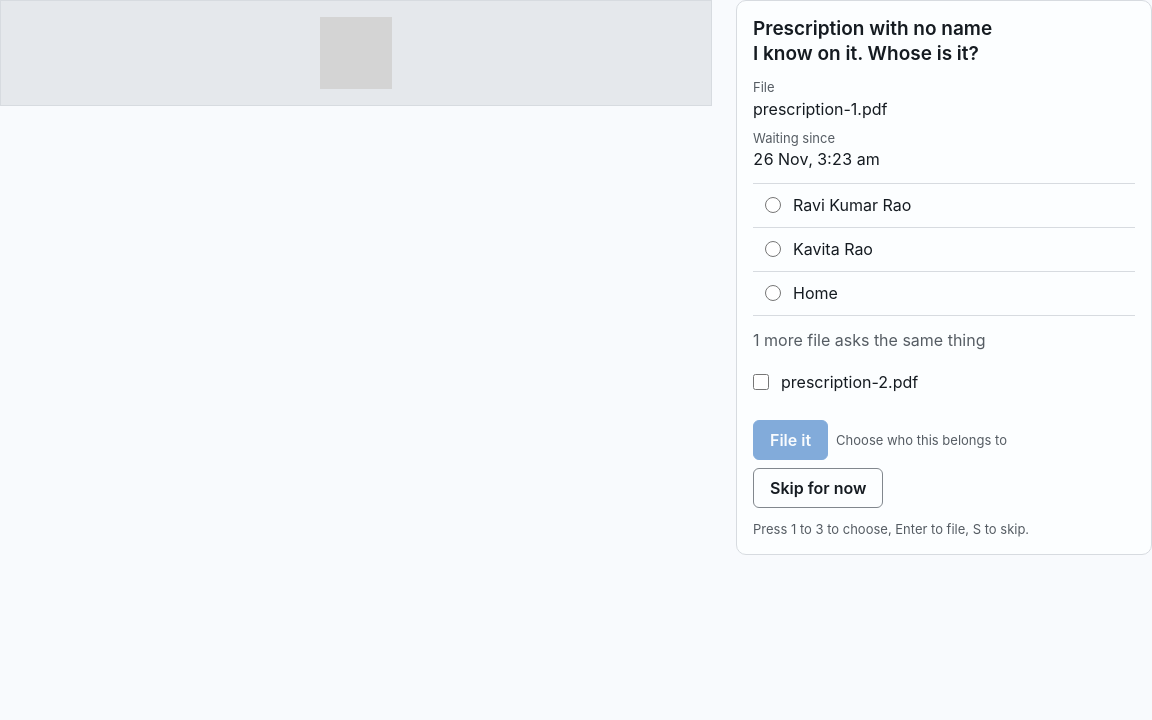
Scenario: NeedsALook › a partly refused answer-many reports the answered files, re-reads and names the refused
Click the checkbox labelled "prescription-2.pdf".
click(761, 382)  # box [753, 374, 769, 390]
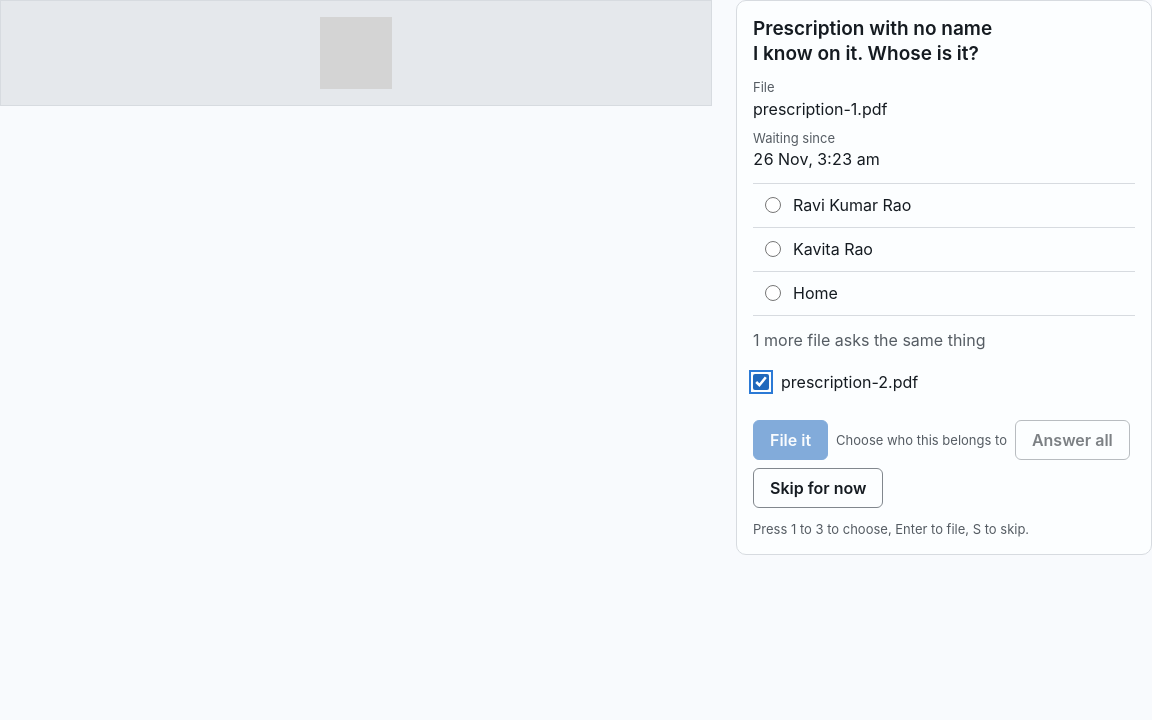
Click the radio button labelled "Home".
click(773, 293)  # box [765, 285, 781, 301]
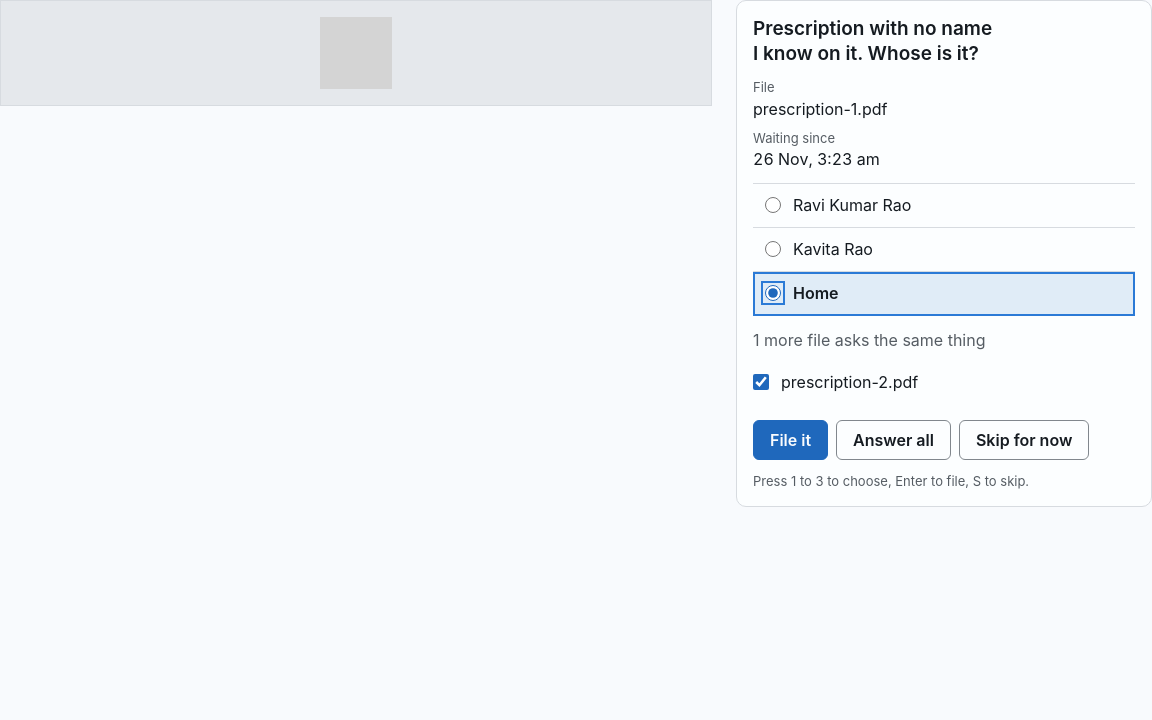
Click the button "Answer all".
click(894, 440)  # box [836, 420, 951, 460]
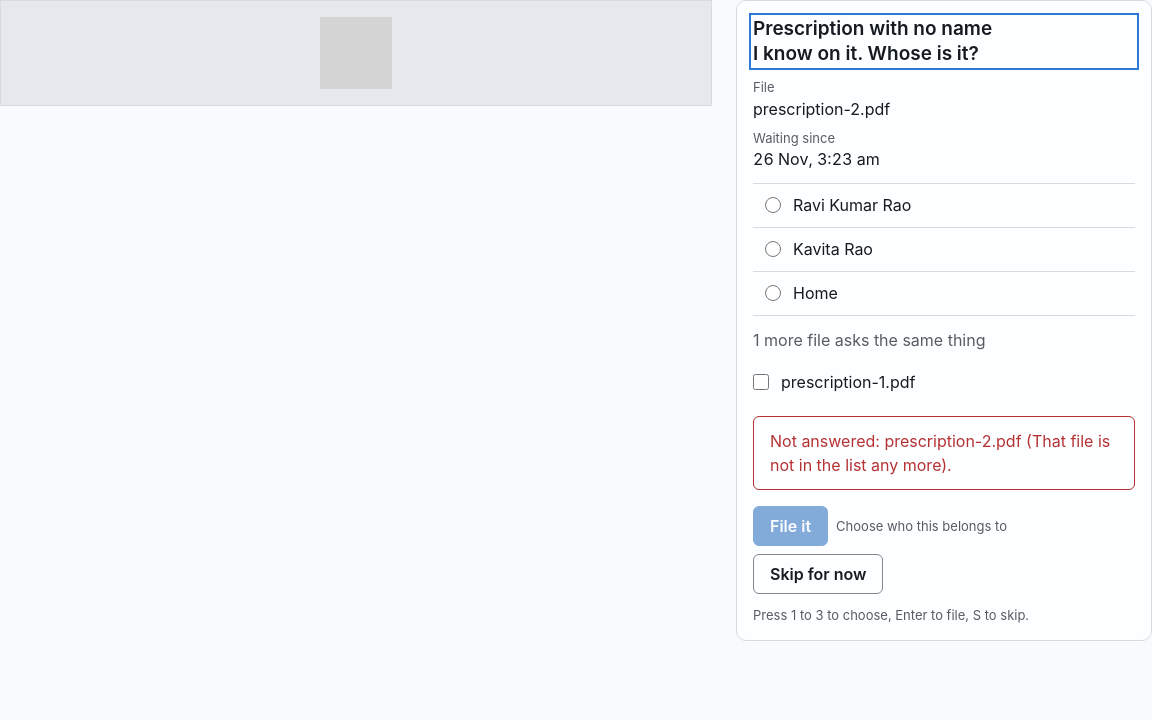
Check: the message reads "Not answered: prescription-2.pdf (That file is not in the list any more).", box [770, 431, 1110, 475]
